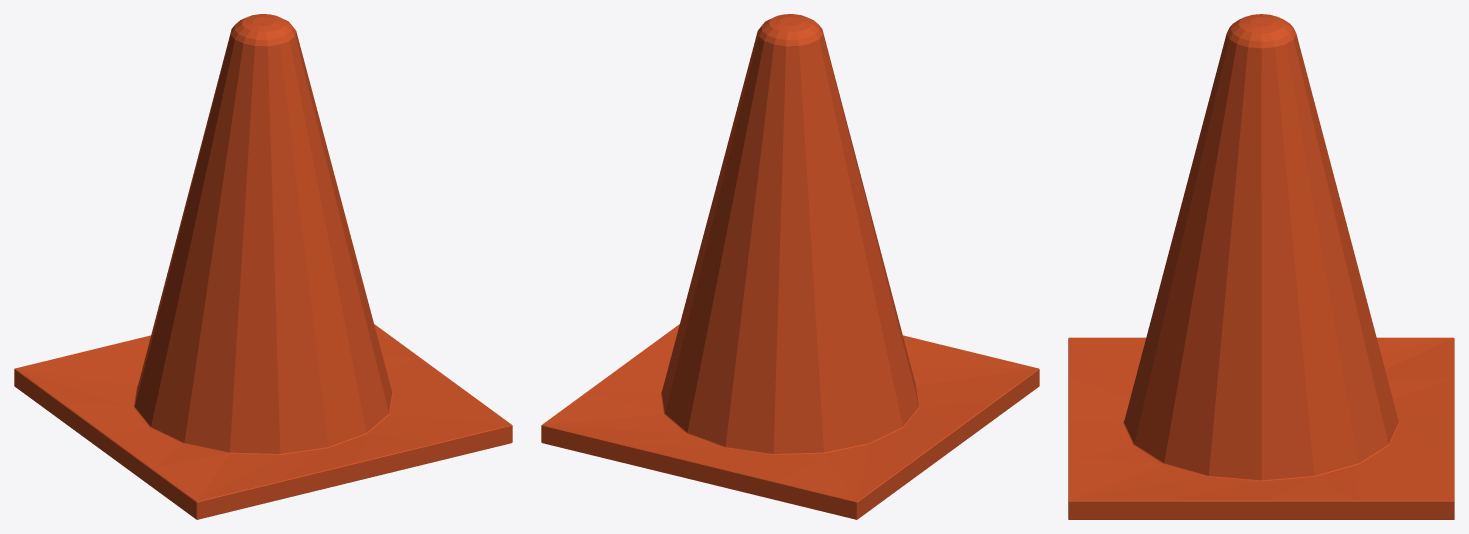
The model's file is Warning_Cone.fbx.
3 views of the same model, side by side, from view 1: azimuth 30°, elevation 25°; view 2: azimuth 150°, elevation 25°; view 3: azimuth 270°, elevation 25° (orthographic). The views are drawn at different scales.
Visible parts, largest first — view 1: Warning_Cone; view 2: Warning_Cone; view 3: Warning_Cone.
Boxes of the visible parts, left/top/right/bottom form: Warning_Cone: left=14, top=14, right=512, bottom=519; Warning_Cone: left=541, top=14, right=1039, bottom=519; Warning_Cone: left=1068, top=14, right=1454, bottom=519.
Bounding box in the file's own units: 54 × 54 × 64.21.
